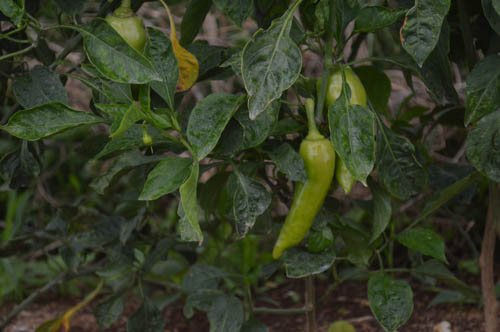ChiliPepper: (274, 140, 337, 258), (330, 74, 369, 188), (105, 15, 149, 49)
